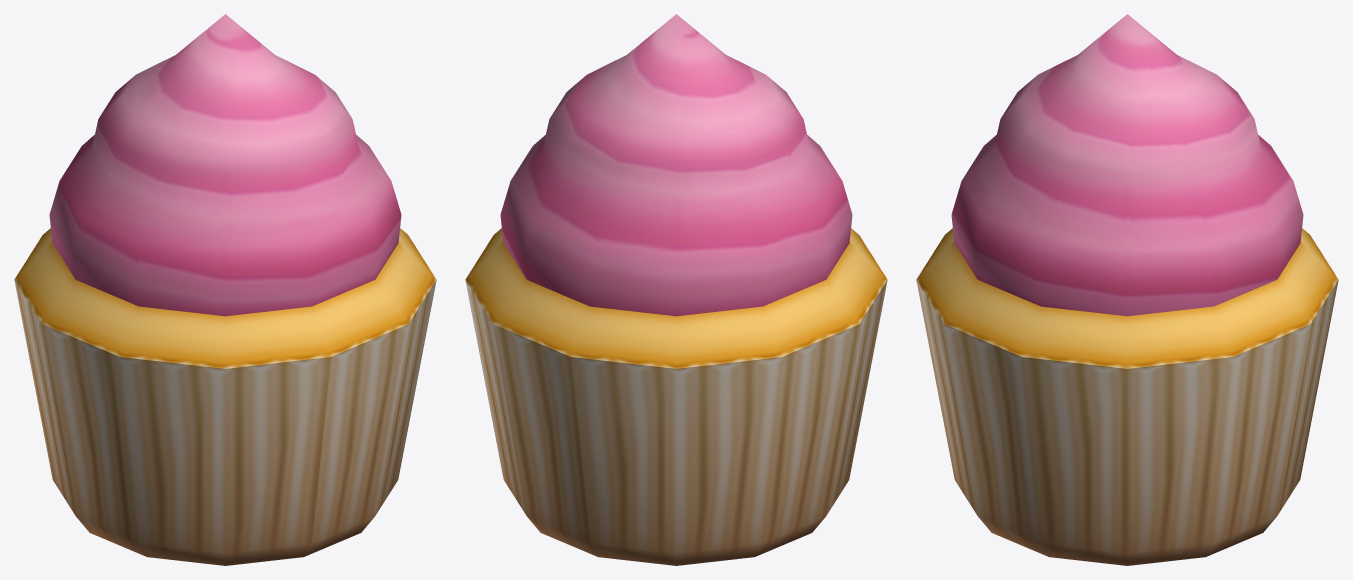
File: 009-Cupcakes_003.FBX
3 renders of one model, left to right at view 1: azimuth 30°, elevation 25°; view 2: azimuth 150°, elevation 25°; view 3: azimuth 270°, elevation 25°, orthographic.
Parts seen in each view (by area): view 1: 009-Cupcakes_003; view 2: 009-Cupcakes_003; view 3: 009-Cupcakes_003.
Boxes of the visible parts, left/top/right/bottom form: 009-Cupcakes_003: left=14, top=14, right=436, bottom=565; 009-Cupcakes_003: left=465, top=14, right=887, bottom=565; 009-Cupcakes_003: left=916, top=14, right=1338, bottom=565.
Size of the model in its own units: 12.34 by 15.65 by 12.34.
